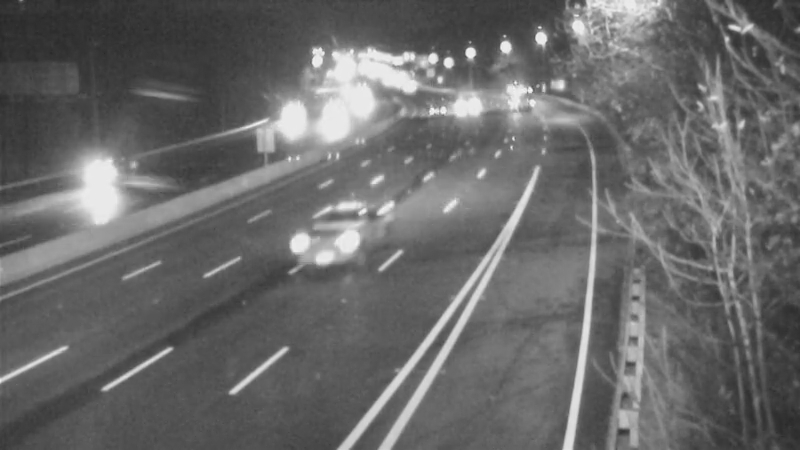vehicle: (290, 196, 370, 276), (54, 132, 134, 212), (497, 70, 547, 120), (444, 85, 494, 135), (417, 82, 467, 132), (299, 106, 349, 156), (260, 93, 310, 143), (338, 80, 388, 130)
